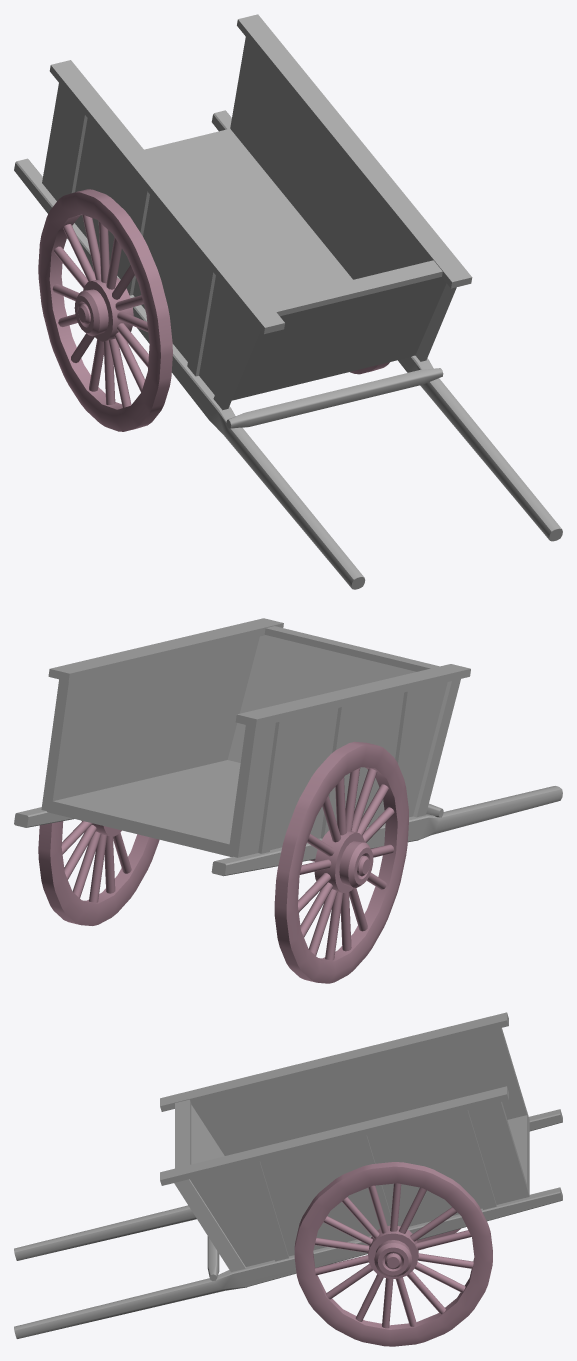
The model's file is wagon.fbx.
3 views of the same model, one above another, from view 1: azimuth 30°, elevation 25°; view 2: azimuth 150°, elevation 25°; view 3: azimuth 270°, elevation 25° (orthographic). The views are drawn at different scales.
Visible parts, largest first — view 1: pCube2, pCylinder1, pCube6, pCube5, pCube3, pCube1, pCube4, pCube7, pCylinder2, pCube15, pCube8, pCylinder6 (+7 smaller); view 2: pCube2, pCylinder1 (×2), pCube3, pCube6, pCube5, pCylinder2, pCube7, pCylinder3 (×2), pCylinder8 (×2), pCube15, pCube9, pCylinder5 (×2) (+8 smaller); view 3: pCube2, pCylinder1, pCube1, pCube5, pCube6, pCube3, pCylinder2, pCube14, pCube9, pCube8, pCube7, pCylinder4 (+9 smaller).
Part boxes in pixels (x1,y1,x2,y2): pCube2: (42, 37, 446, 400); pCylinder1: (38, 189, 172, 431); pCube6: (49, 60, 284, 334); pCube5: (237, 14, 472, 288); pCube3: (14, 158, 365, 589); pCube1: (211, 110, 562, 541); pCube4: (226, 368, 443, 428); pCube7: (267, 260, 442, 316); pCylinder2: (74, 277, 133, 341); pCube15: (213, 315, 260, 410); pCube8: (187, 262, 215, 376); pCylinder6: (82, 214, 131, 407); pCube2: (41, 635, 447, 857); pCylinder1 (×2): (38, 741, 408, 983); pCube3: (211, 786, 562, 876); pCube6: (235, 664, 470, 727); pCube5: (48, 618, 283, 681); pCylinder2: (314, 830, 373, 893); pCube7: (264, 626, 439, 671); pCylinder3 (×2): (89, 768, 360, 960); pCylinder8 (×2): (72, 768, 376, 955); pCube15: (413, 679, 460, 817); pCube9: (258, 720, 287, 853); pCylinder5 (×2): (64, 784, 388, 937); pCube2: (190, 1028, 529, 1266); pCylinder1: (294, 1162, 492, 1346); pCube1: (14, 1187, 562, 1338); pCube5: (160, 1086, 508, 1185); pCube6: (160, 1012, 508, 1111); pCube3: (14, 1109, 562, 1260); pCylinder2: (368, 1225, 418, 1279); pCube14: (174, 1179, 245, 1272); pCube9: (454, 1110, 496, 1209); pCube8: (246, 1162, 288, 1261); pCube7: (175, 1099, 191, 1168); pCylinder4: (315, 1230, 471, 1275).
Size of the model in its own units: 139 by 141 by 286.
